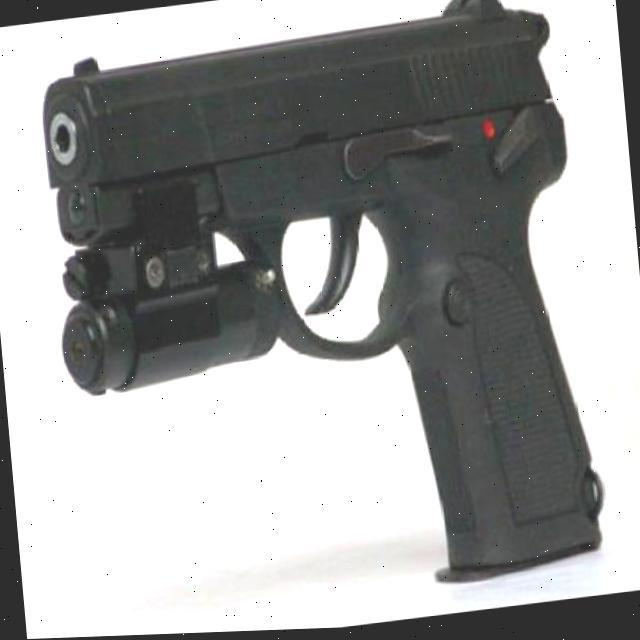gun: (33, 0, 607, 626)
